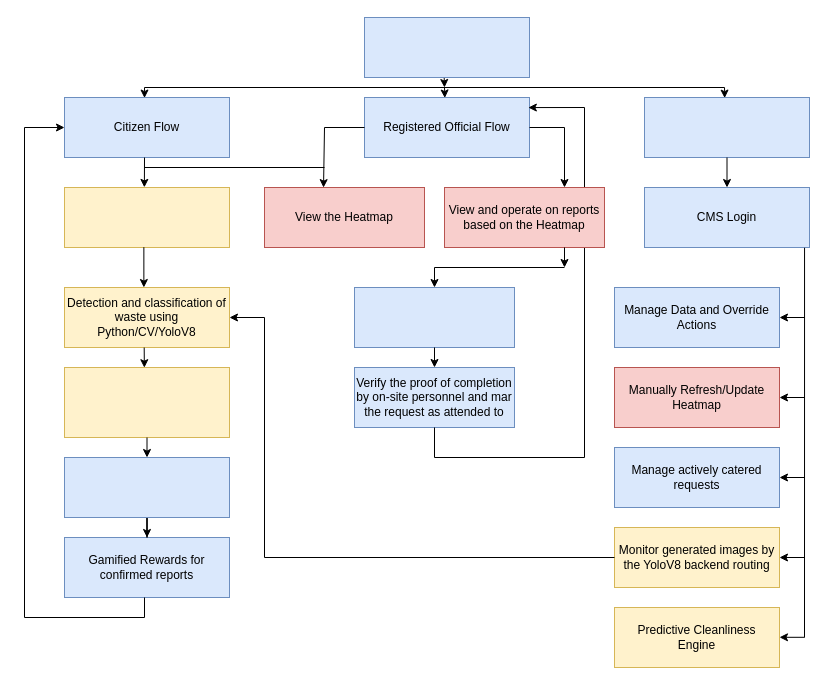
Image size: 830x685. Some labels were removed from this diagram. The centre of each missing label's shape, as x and y in pixels:
"Admin flow" goes at (x=727, y=127).
"Alert posting and Feedback loop (Get notified/Leave suggestions)" goes at (x=147, y=402).
"Login Gateway (Citizen/Official/ Admin)" goes at (x=447, y=47).
"Received and post auto-generated report" goes at (x=147, y=487).
"Register an allotment to the cleanup request" goes at (x=434, y=317).
"Register the feed / Upload photos or videos to the app using a camera feed" goes at (x=147, y=217).
